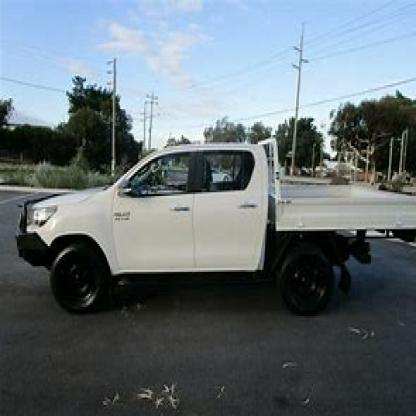light_vehicle: (11, 129, 415, 331)
